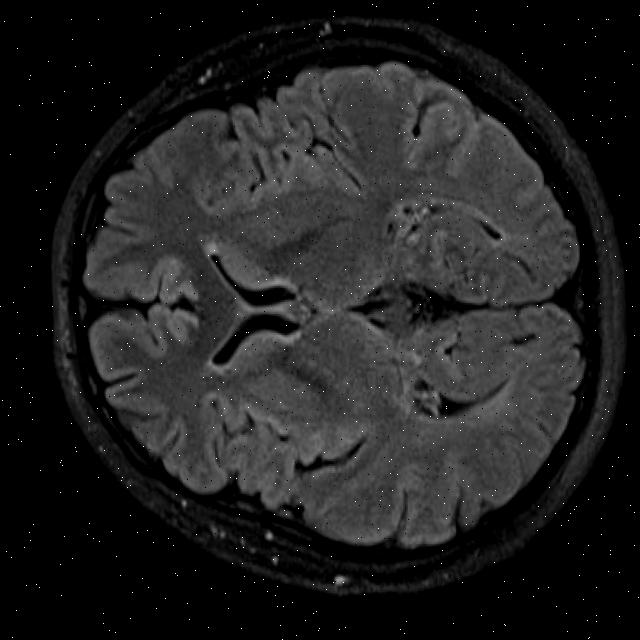NoTumor: (37, 4, 639, 605)
